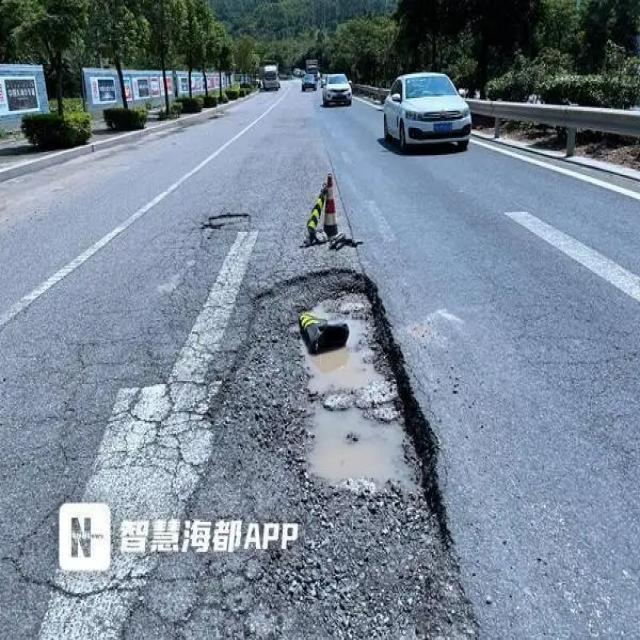Buraco: (199, 265, 456, 557), (197, 211, 254, 242)
